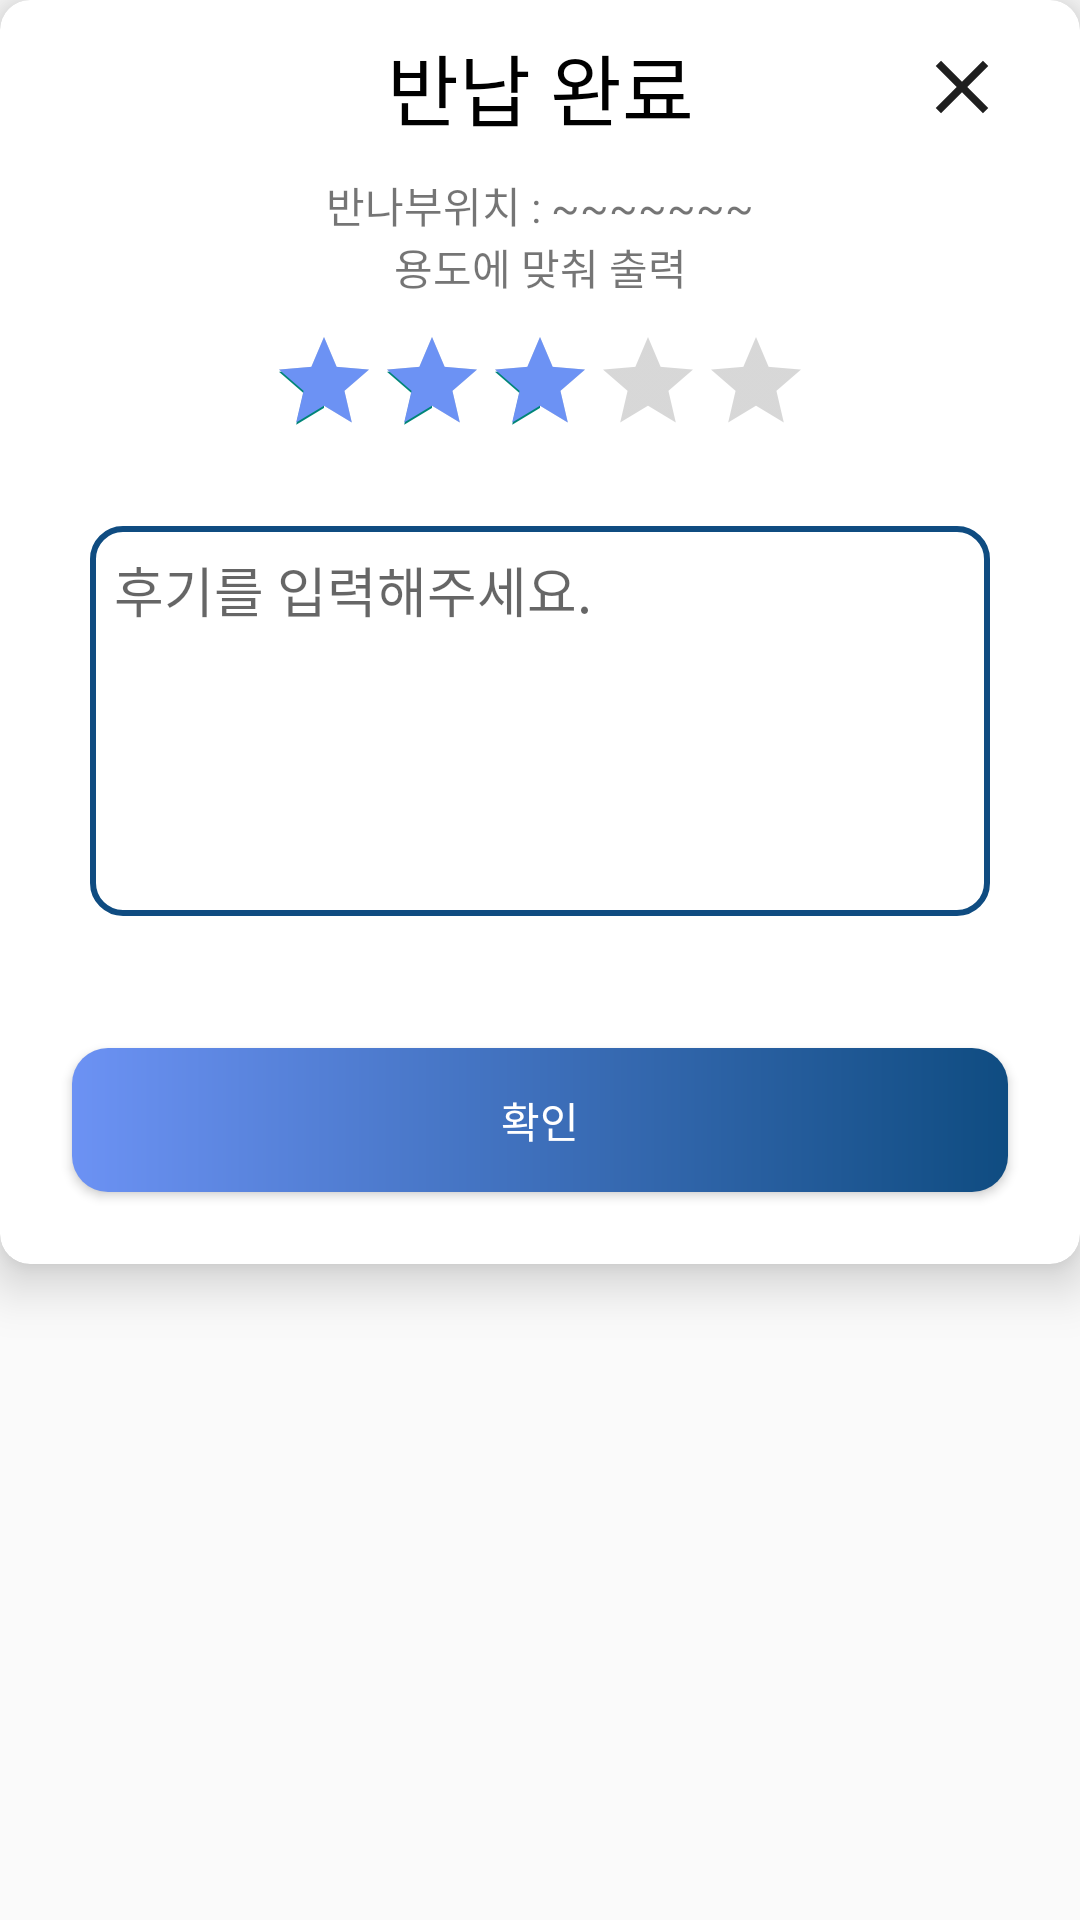

Point at icon controls on the screen. Image size 1080 x 1920, points as [x,y].
close: [962,87]
